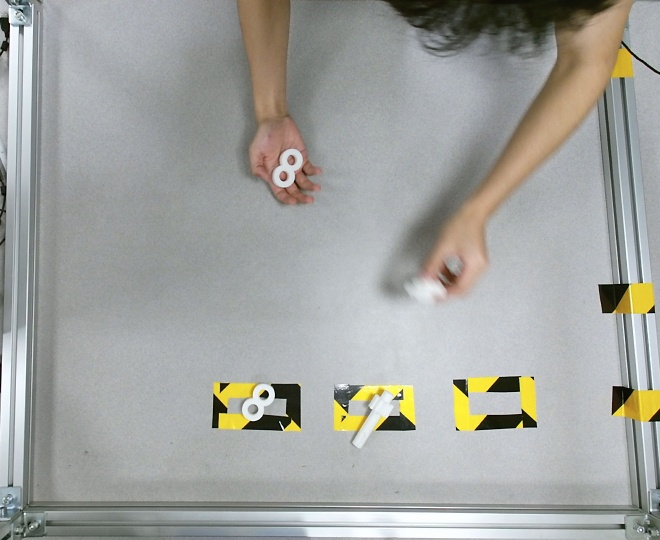stage_1: (273, 149, 302, 187)
